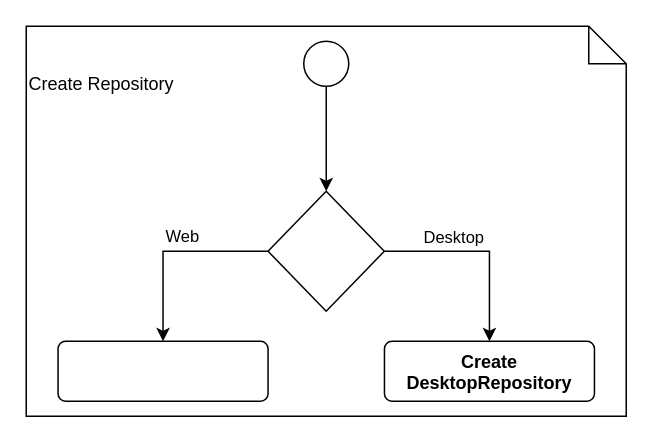
This 653x443 diagram has some shape labels left out. Each missing label, with the centre of its shape:
Create IndexedDBRepository: point (162, 370)
User's Platform: point (325, 250)
